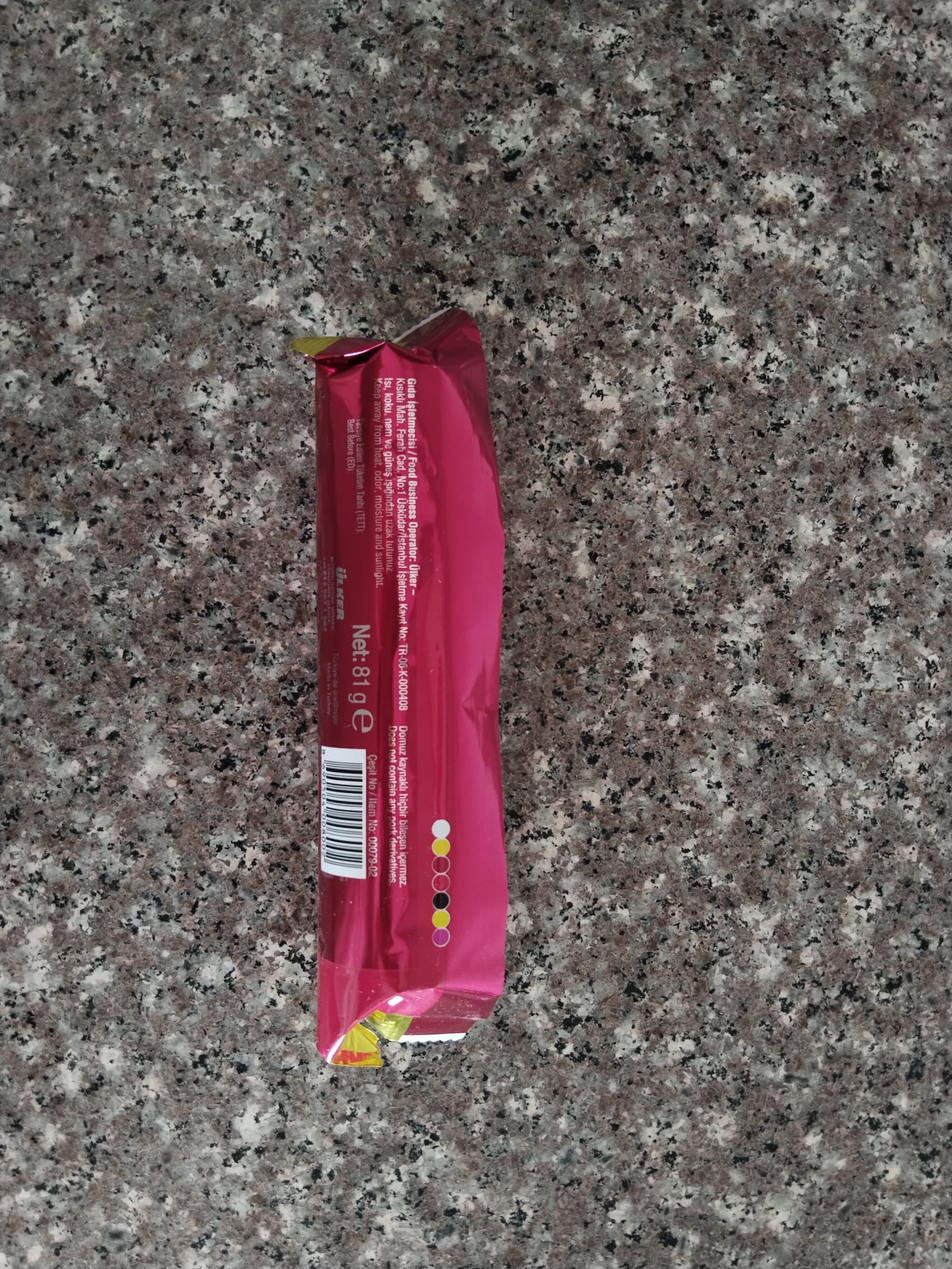ulker_cokoprens_biskuvi: (306, 313, 507, 1064)
